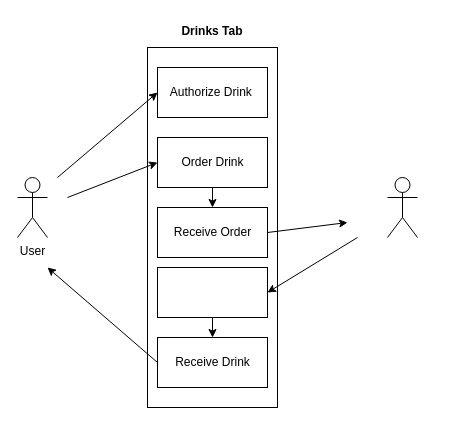
The diagram is 455 pixels wide and 425 high, and some of its shapes have lost their labels. The shapes that lost their labels are listed below. From the top down, each one's centre as x and y in pixels, then its label:
At pixel 402 207: "Drink Meister".
At pixel 212 292: "Fulfill Order".
